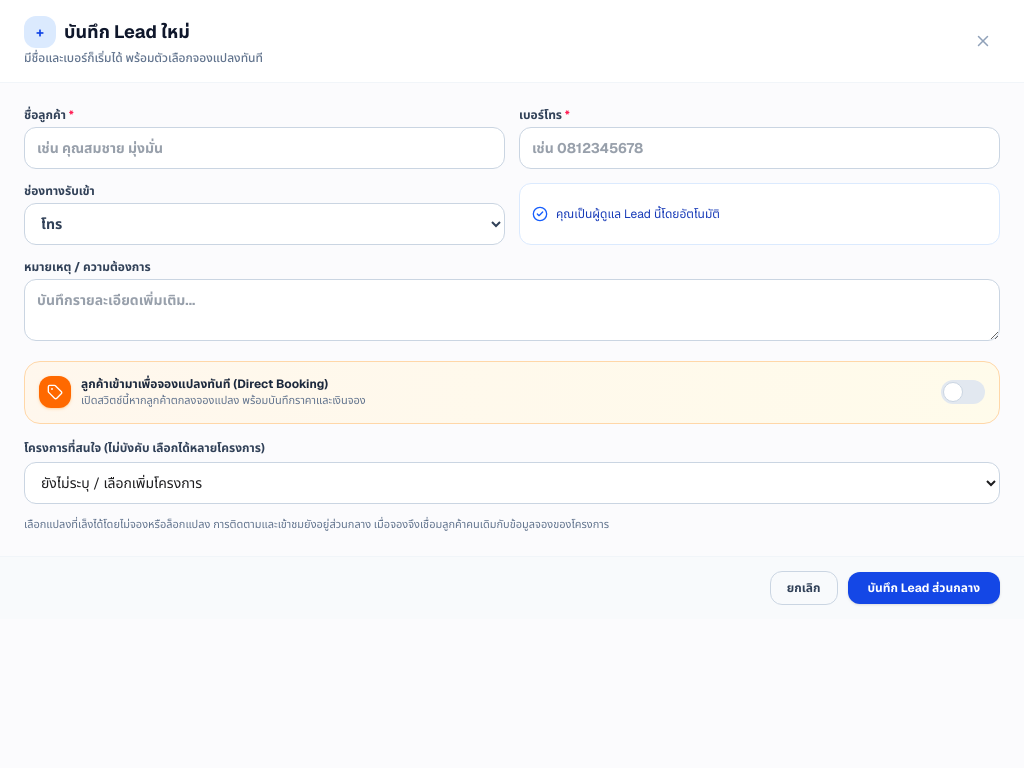
it: CentralLeadForm Direct Booking Integration › toggles direct booking ON and loads available plots and pricing calculator
Click the checkbox at (963, 392), box [941,380,985,404]
(page scrolled)
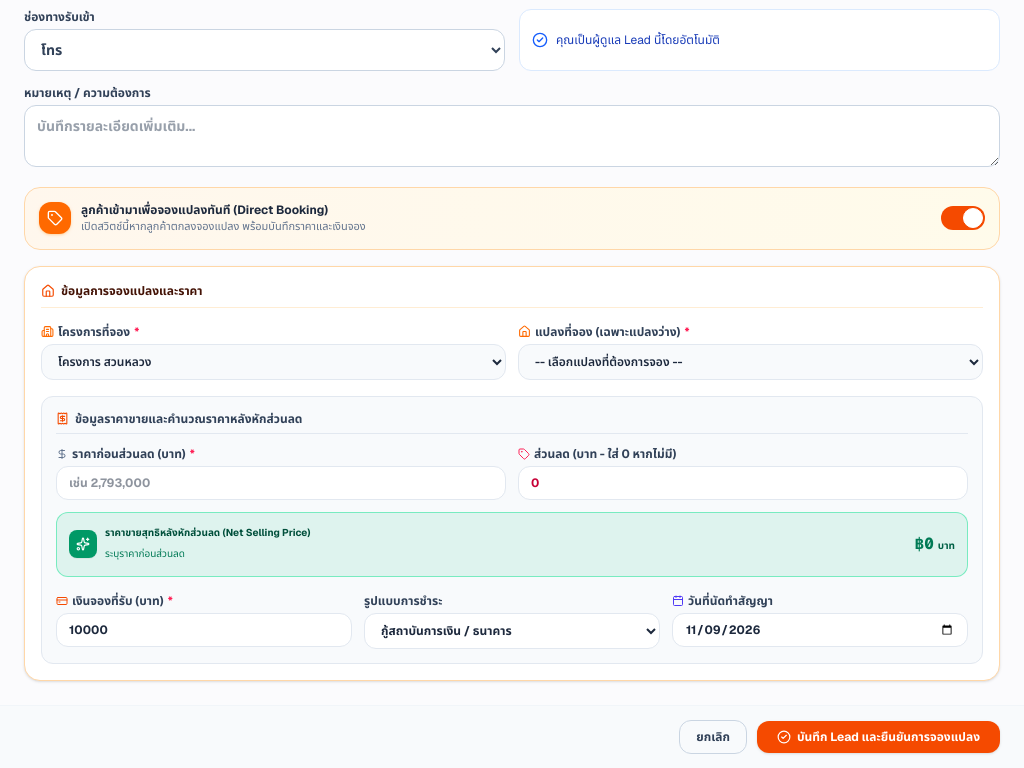
expect the heading "ข้อมูลการจองแปลงและราคา" is shown: met, box [41,282,983,308]
expect the text "ราคาขายสุทธิหลังหักส่วนลด (Net Selling Price)" is shown: met, box [105,524,311,540]
expect the text "เงินจองที่รับ (บาท)" is shown: met, box [72,592,164,608]
